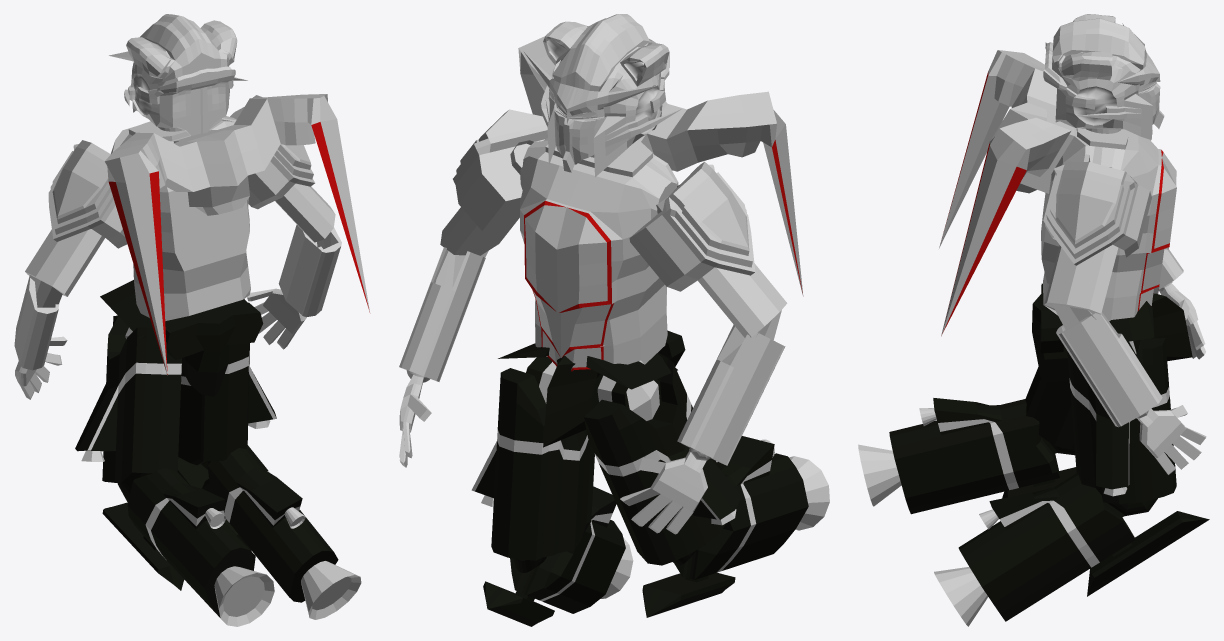
Rendered from walk3.obj.
The picture shows the model from 3 angles, left to right: view 1: azimuth 30°, elevation 25°; view 2: azimuth 150°, elevation 25°; view 3: azimuth 270°, elevation 25°; orthographic projection. The views are drawn at different scales.
Parts seen in each view (by area): view 1: Bottom_Half_Cube.008; view 2: Bottom_Half_Cube.008; view 3: Bottom_Half_Cube.008.
Boxes of the visible parts, x1,y1,x2,y2 form: Bottom_Half_Cube.008: [14, 14, 370, 626]; Bottom_Half_Cube.008: [399, 14, 829, 626]; Bottom_Half_Cube.008: [858, 14, 1209, 626].
Bounding box in the file's own units: 0.9769 × 1.75 × 0.9813.
